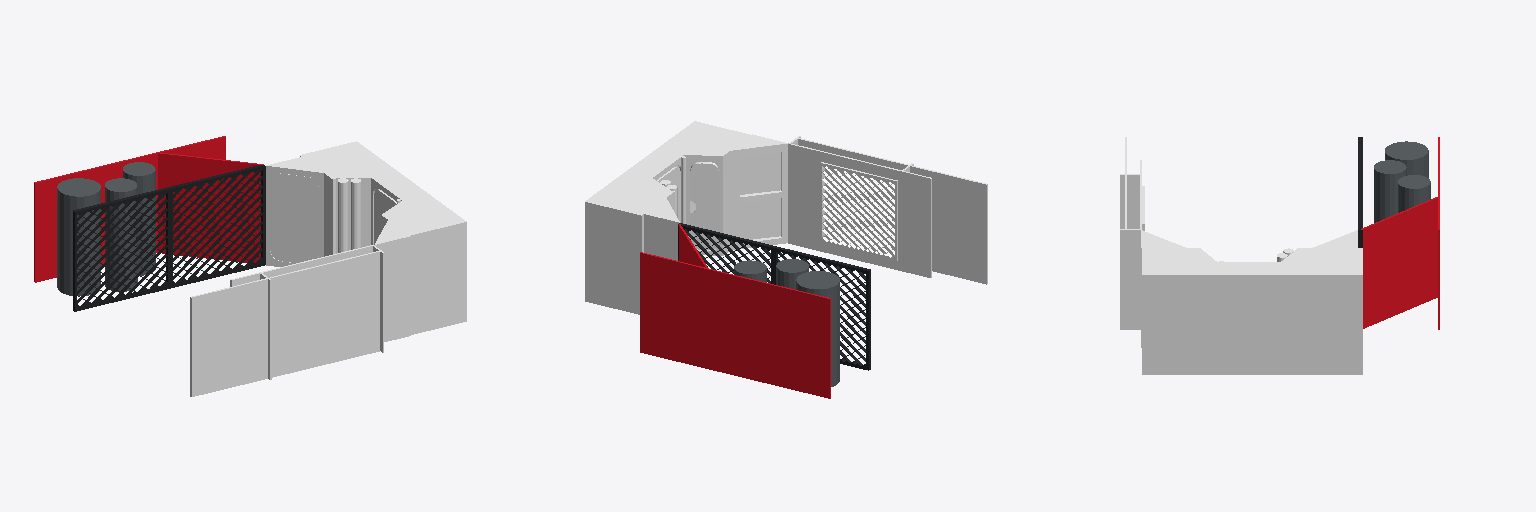
The model's file is tinker.obj.
3 renders of one model, left to right at view 1: azimuth 30°, elevation 25°; view 2: azimuth 150°, elevation 25°; view 3: azimuth 270°, elevation 25°, orthographic.
Visible parts, largest first — view 1: obj_0; view 2: obj_0; view 3: obj_0.
Boxes of the visible parts, <box> form: obj_0: <box>34,136,466,396</box>; obj_0: <box>585,121,987,398</box>; obj_0: <box>1120,137,1439,374</box>.
Size of the model in its own units: 149 by 50 by 145.